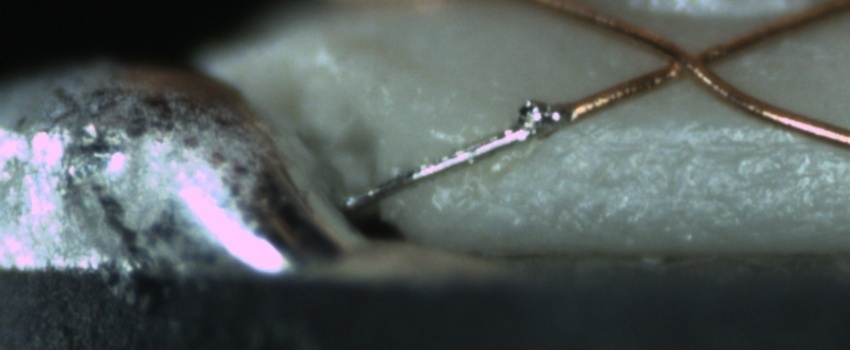CL: (647, 33, 736, 92)
DL: (588, 113, 849, 172)
TB: (510, 98, 565, 141)
TS: (340, 105, 571, 211)
TTCW: (332, 83, 628, 212)
